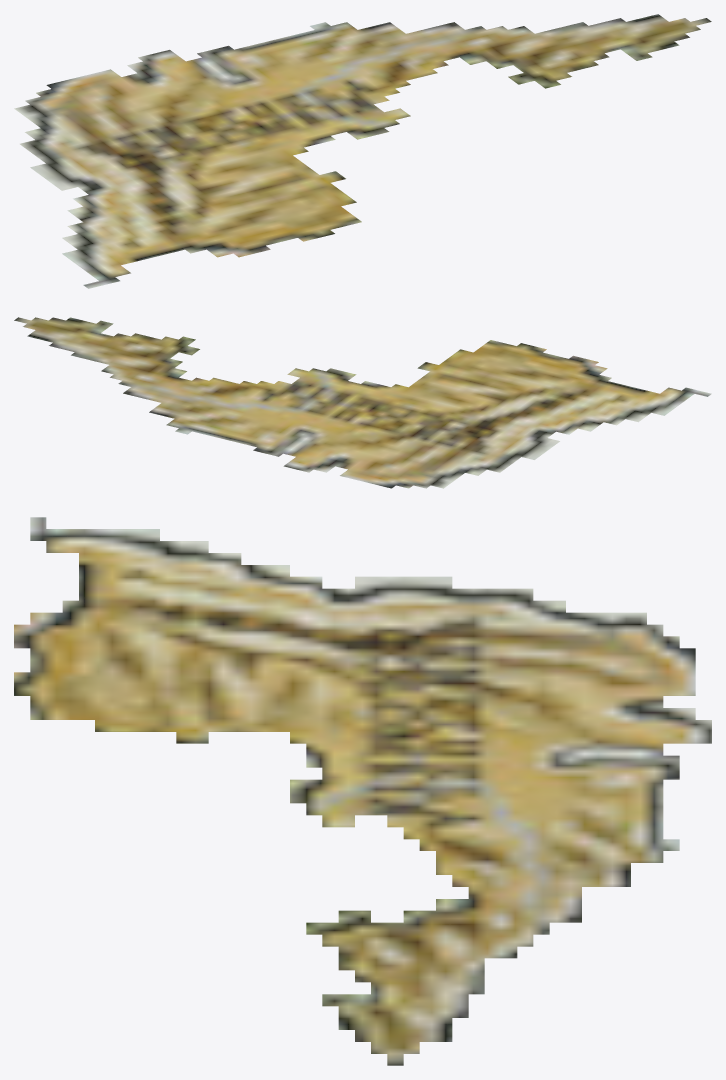
Rendered from venezuela-columbia.gltf.
3 renders of one model, top to bottom at view 1: azimuth 30°, elevation 25°; view 2: azimuth 150°, elevation 25°; view 3: azimuth 270°, elevation 25°, orthographic. The views are drawn at different scales.
Parts seen in each view (by area): view 1: Plane; view 2: Plane; view 3: Plane.
Boxes of the visible parts, left/top/right/bottom form: Plane: left=14, top=14, right=711, bottom=288; Plane: left=14, top=317, right=711, bottom=488; Plane: left=14, top=517, right=711, bottom=1065.
Bounding box in the file's own units: 0.4542 × 0 × 0.2442.
1 material, 1 textured.
